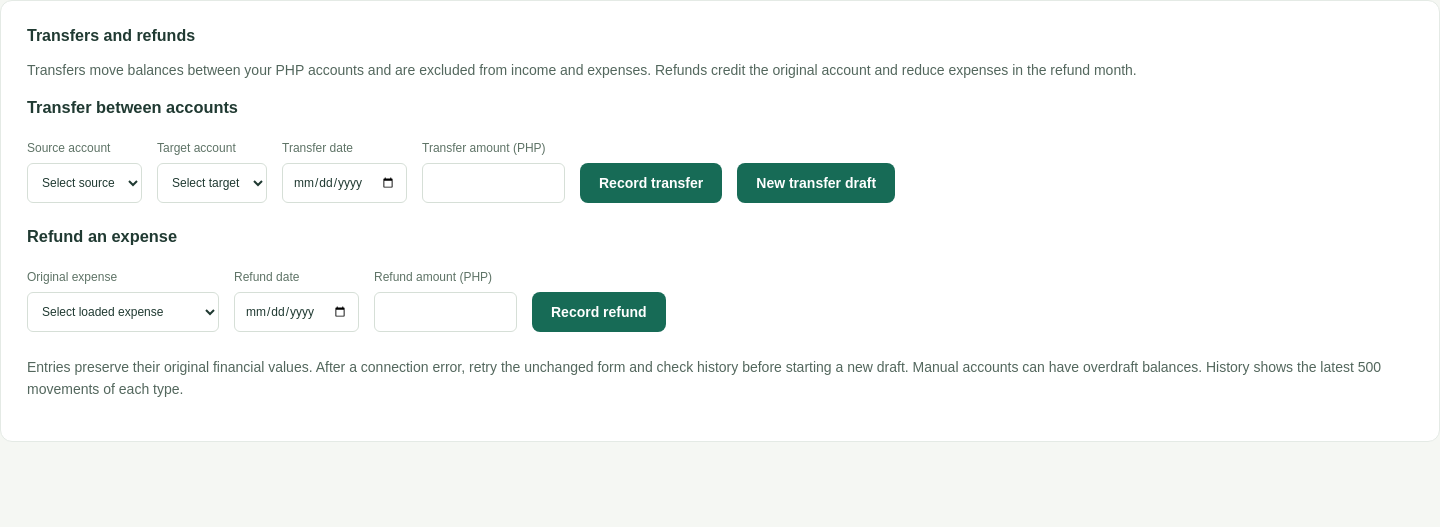
privacy, intelligence and sessions › preserves movement idempotency keys across uncertain retries
Select "Wallet" in the dropdown labelled "Source account": point(84, 183) [27,163,142,203]
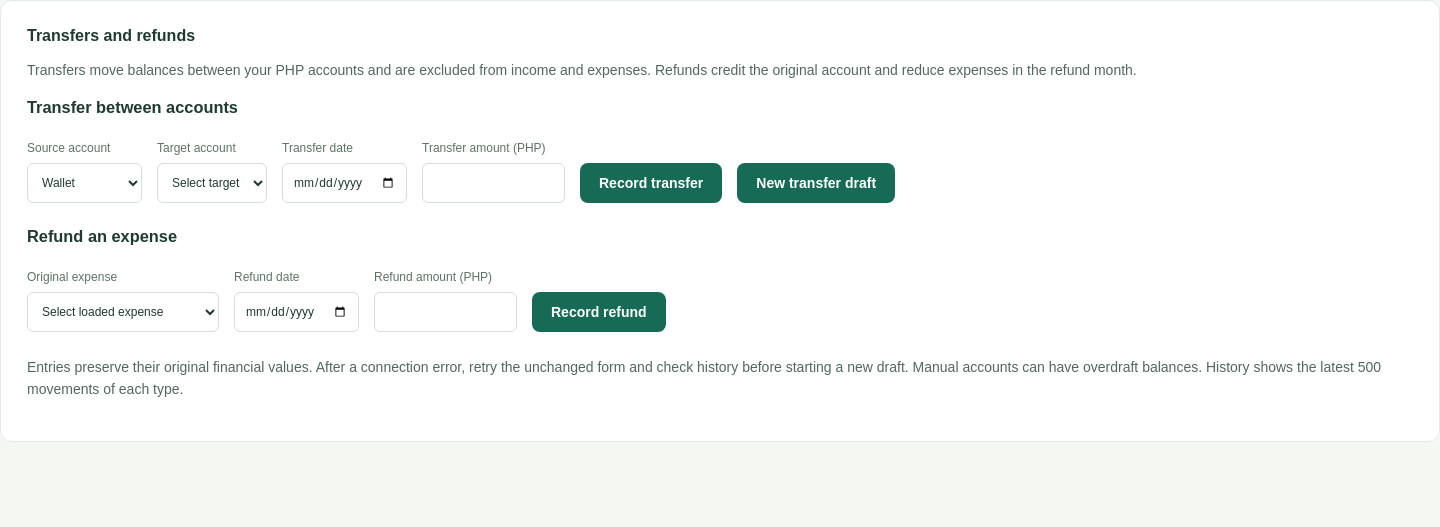
Select "Savings" in the dropdown labelled "Target account": point(212, 183) [157,163,267,203]
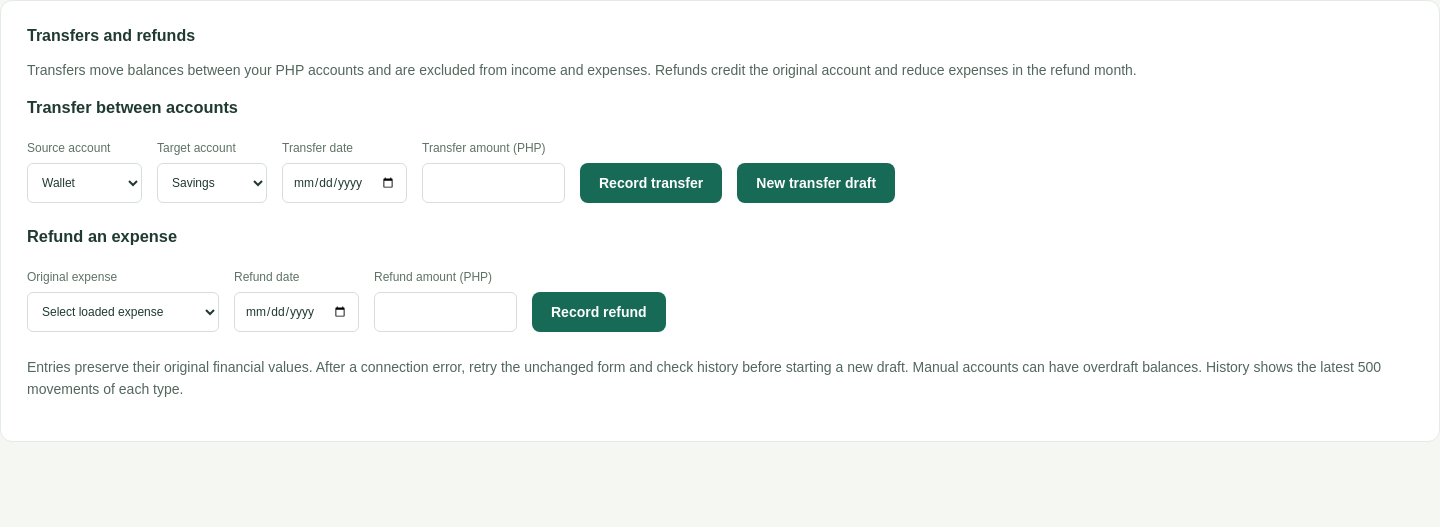
In the date field labelled "Transfer date": point(344, 183) [282,163,407,203], type "2026-10-01"
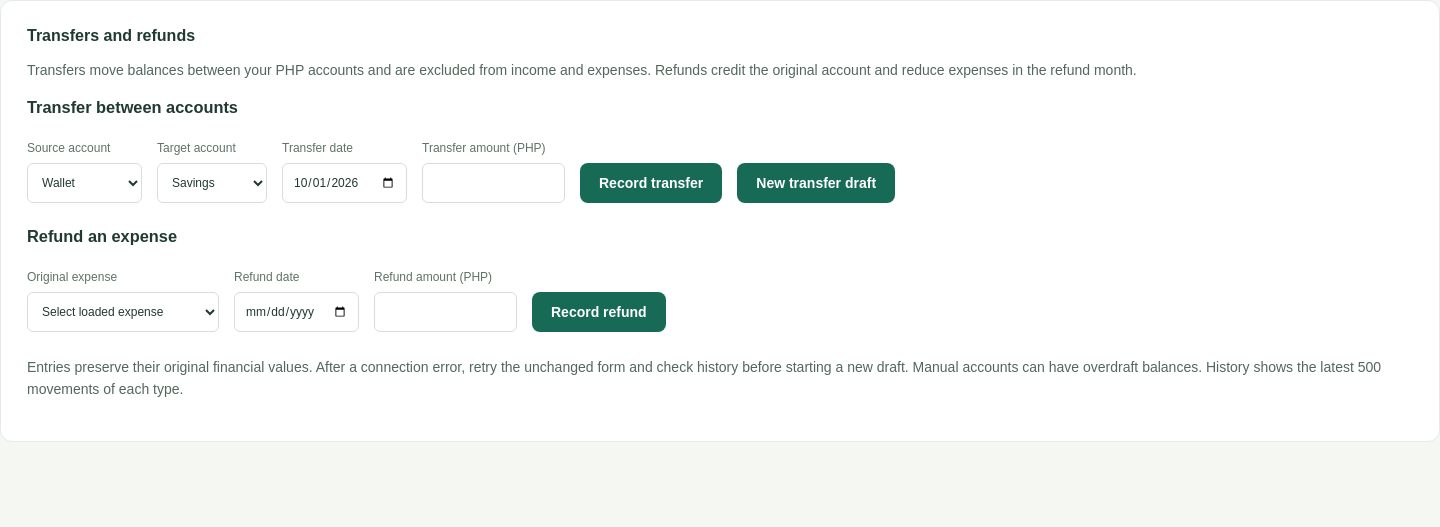
In the number field labelled "Transfer amount (PHP)": point(494, 183) [422,163,565,203], type "0.01"
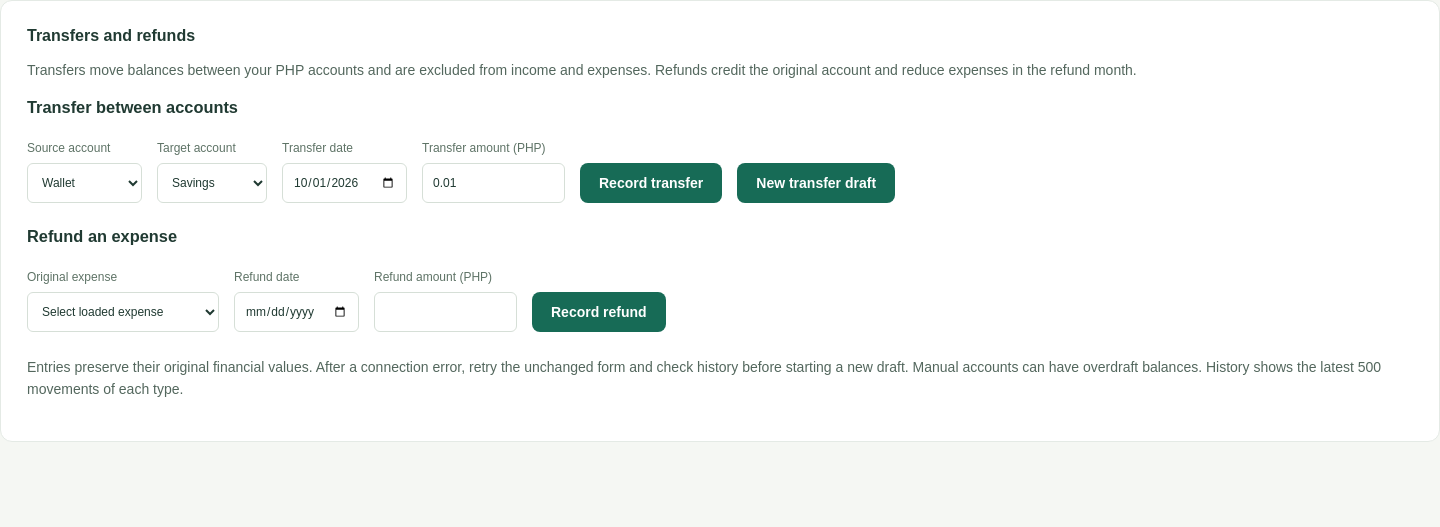
Click the button "Record transfer": point(651, 183) [580,163,722,203]
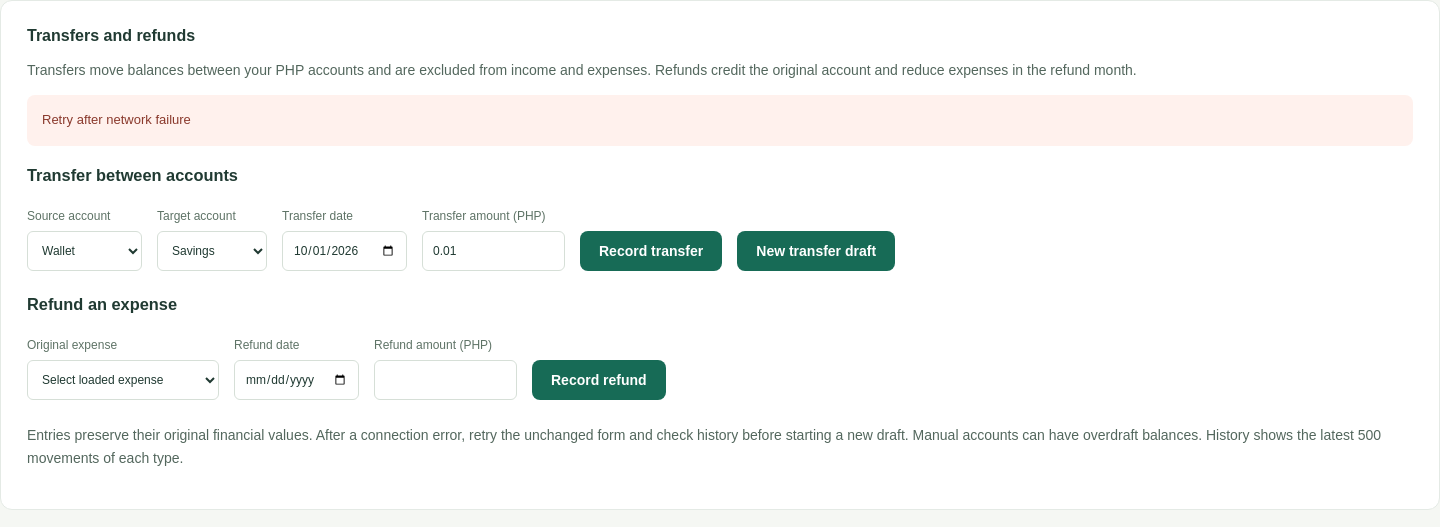
Expected: the message "Retry after network failure" is shown, [27,95,1413,146]
Click the button "Record transfer": point(651, 251) [580,231,722,271]
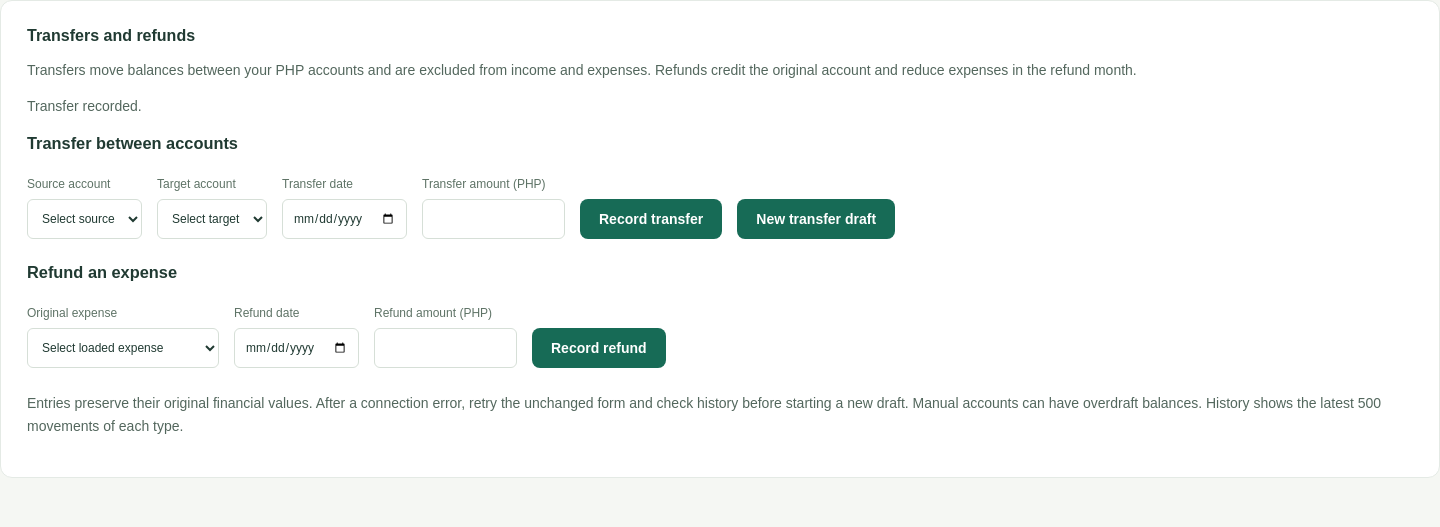
Expected: the text "Transfer recorded." is shown, [27,98,142,114]
